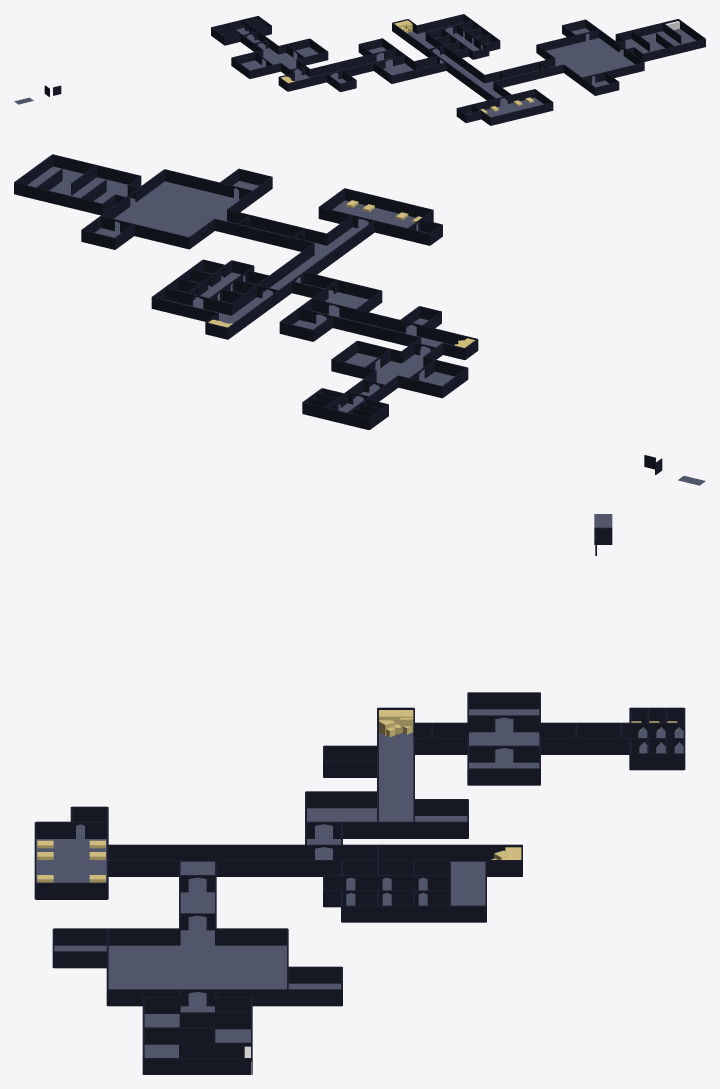
Rendered from DungeonStage.fbx.
3 renders of one model, top to bottom at view 1: azimuth 30°, elevation 25°; view 2: azimuth 150°, elevation 25°; view 3: azimuth 270°, elevation 25°, orthographic. The views are drawn at different scales.
Parts seen in each view (by area): view 1: Floor.018, Wall, Floor.014, Floor.001, Floor.008, Floor.011, Floor.012, Floor.010; view 2: Floor.018, Wall, Floor.014, Floor.001, Floor.008, Floor.011, Floor.012; view 3: Floor.018, Wall, Floor.008, Floor.002, Floor.017, Floor.001, Floor.012, Floor.014.
Boxes of the visible parts, x1,y1,x2,y2 form: Floor.018: (546,38,634,83); Wall: (211,16,271,45); Floor.014: (625,28,695,53); Floor.001: (262,48,310,81); Floor.008: (485,97,543,117); Floor.011: (455,67,507,105); Floor.012: (418,22,490,51); Floor.010: (407,31,452,63); Floor.018: (114,181,239,236); Wall: (302,388,388,429); Floor.014: (27,166,127,203); Floor.001: (369,340,454,393); Floor.008: (332,200,418,230); Floor.011: (283,227,361,282); Floor.012: (165,271,256,321); Floor.018: (108,945,286,1005); Wall: (629,707,685,770); Floor.008: (36,838,106,882); Floor.002: (379,754,413,821); Floor.017: (180,877,214,945); Floor.001: (379,732,539,762); Floor.012: (346,876,485,905); Floor.014: (144,1014,250,1057).
Bounding box in the file's own units: 73638 × 1000 × 36100.
